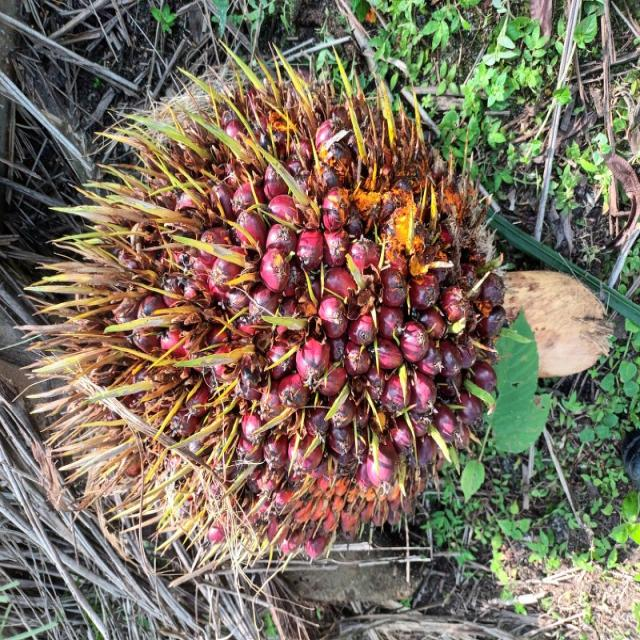fraksi 3: (126, 48, 594, 566)
